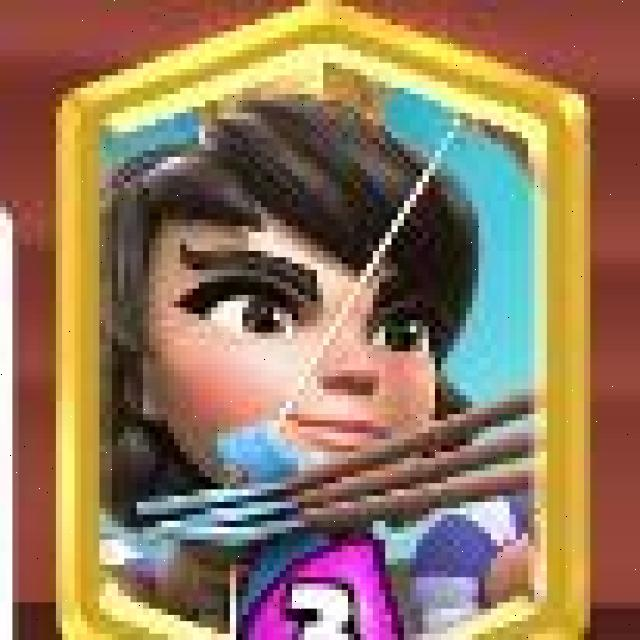Princess: (52, 0, 592, 640)
